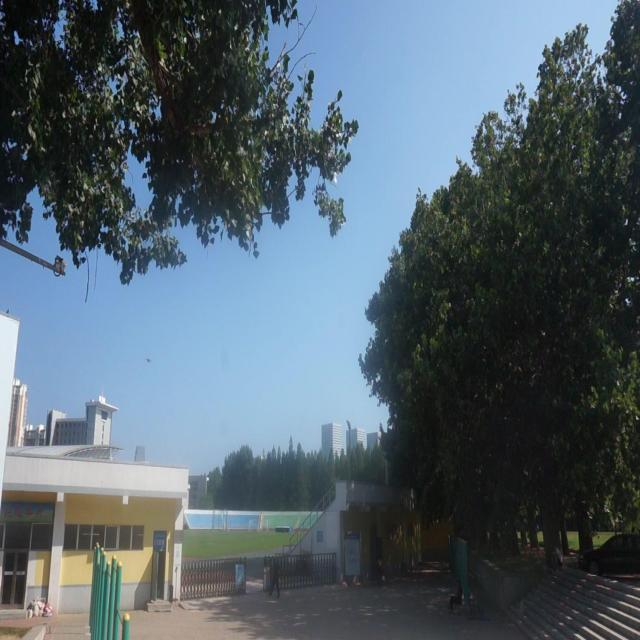drone: (144, 354, 152, 366)
